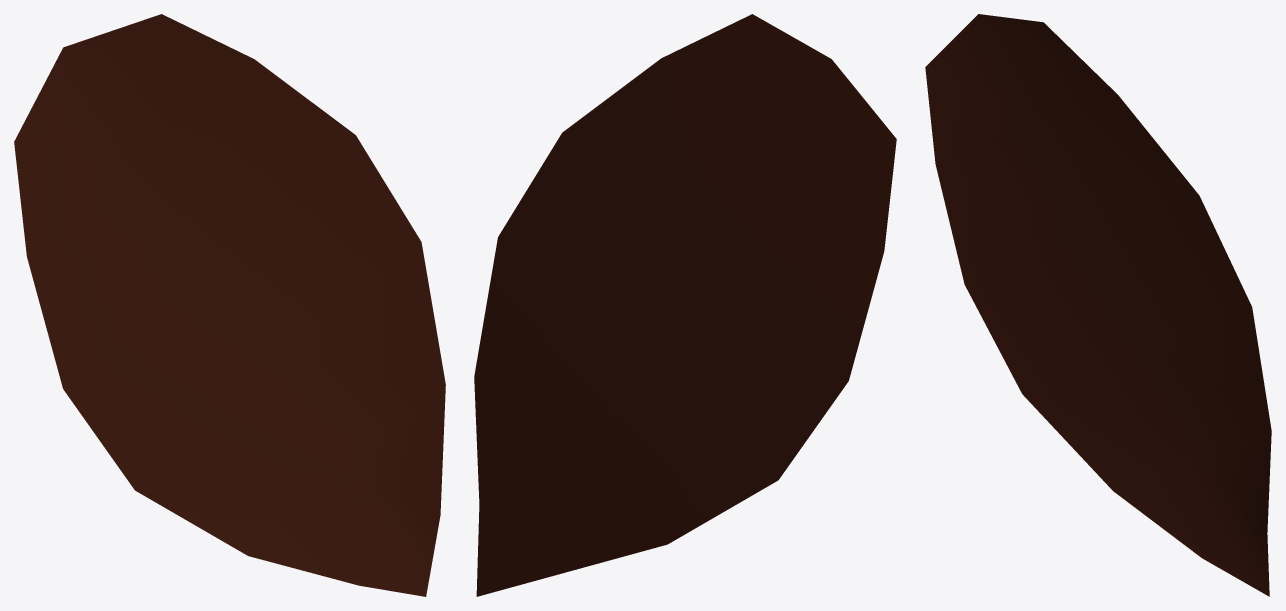
File: rooster_feather_flight_tertiary_056.obj
3 renders of one model, left to right at view 1: azimuth 30°, elevation 25°; view 2: azimuth 150°, elevation 25°; view 3: azimuth 330°, elevation 25°, orthographic. The views are drawn at different scales.
Parts seen in each view (by area): view 1: feather_flight_tertiary_056; view 2: feather_flight_tertiary_056; view 3: feather_flight_tertiary_056.
Part boxes in pixels (x1,y1,x2,y2): feather_flight_tertiary_056: (14,14,445,596); feather_flight_tertiary_056: (474,14,896,596); feather_flight_tertiary_056: (925,14,1271,596).
Bounding box in the file's own units: 0.0145 × 0.021 × 0.000502.
